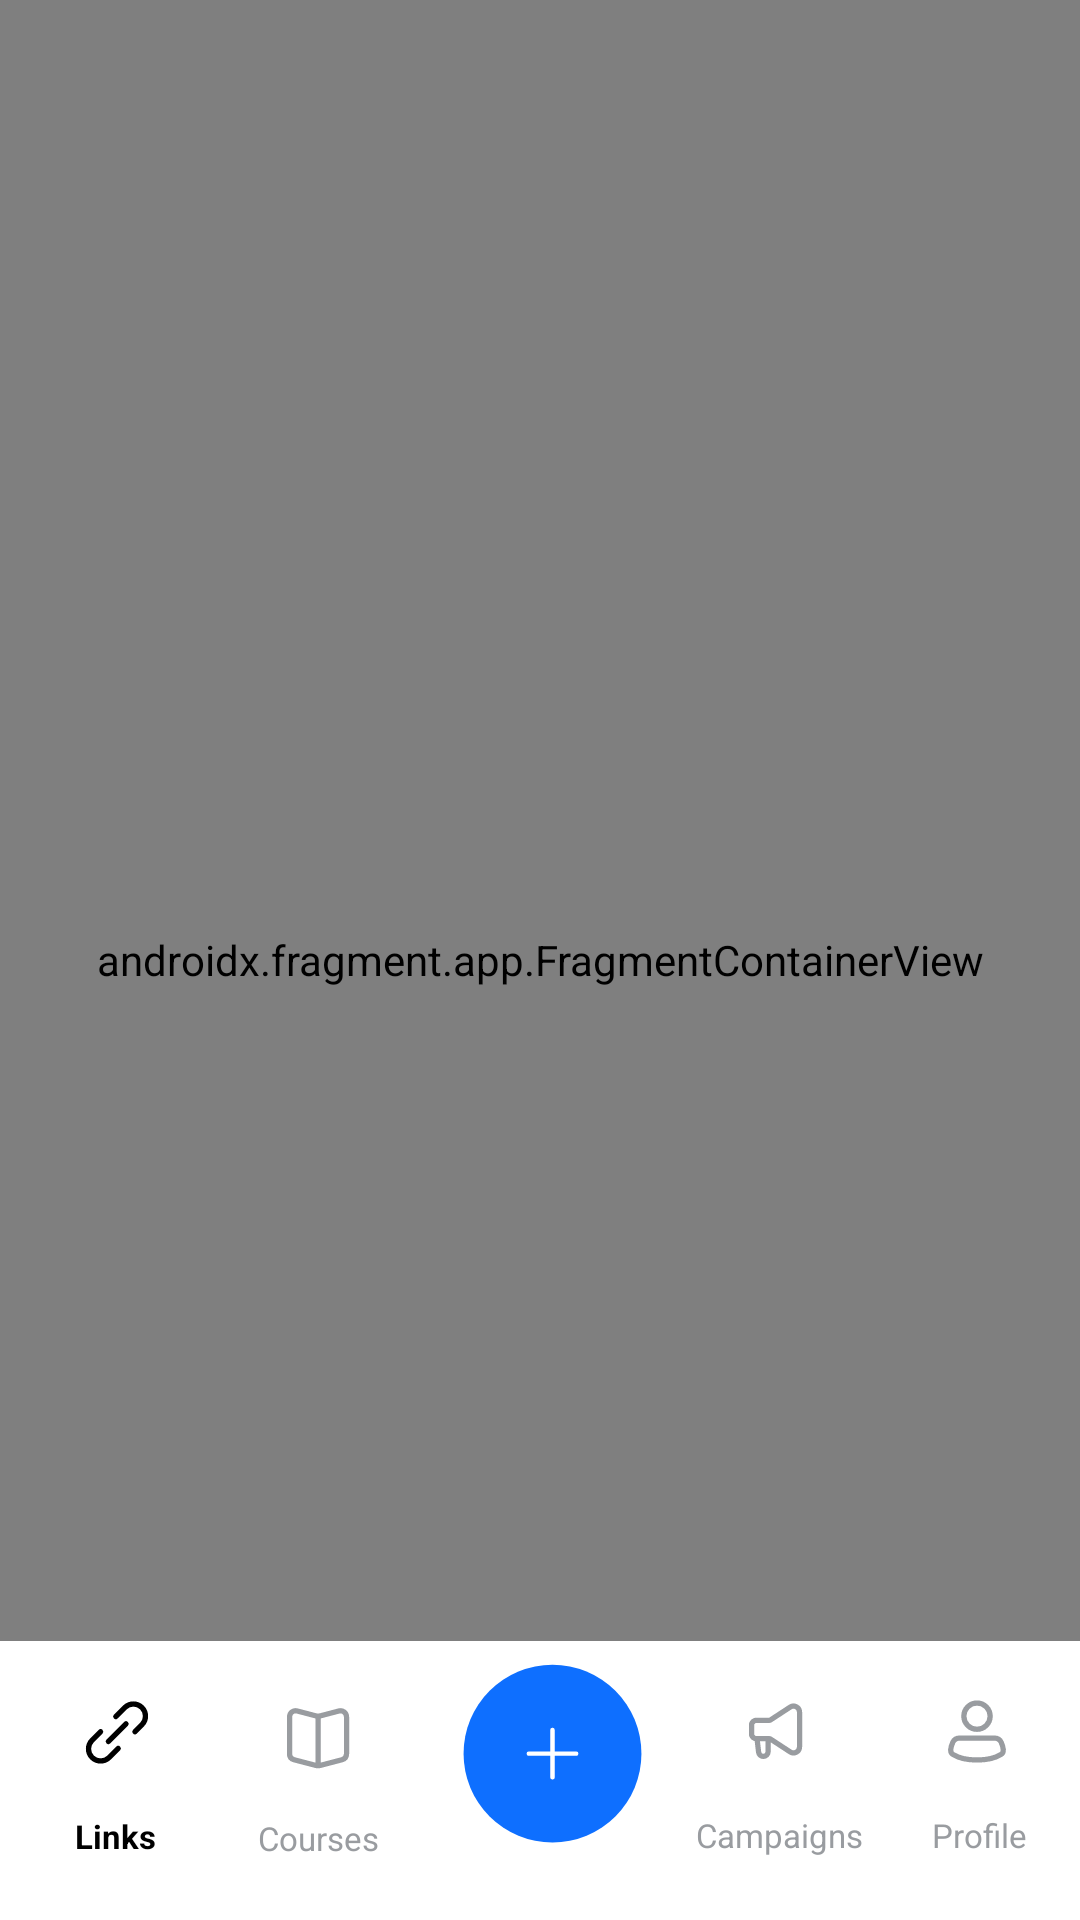

Where to tap for icons on this 1080 x 1920 app screen, as (x=x, y=y):
plus: (x=552, y=1753)
